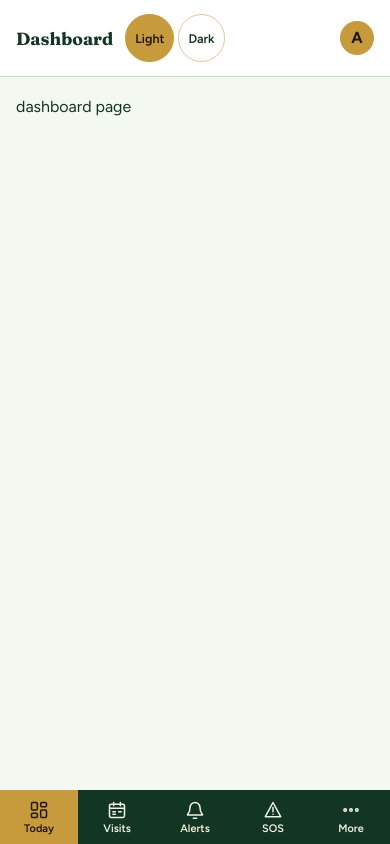
Test: AdminLayout phone navigation › closes the More list when a link is followed
What coordinates should you click on to do the following:
click the button "More"
I would click on:
 (351, 817)
Its box is [312,790,389,843].
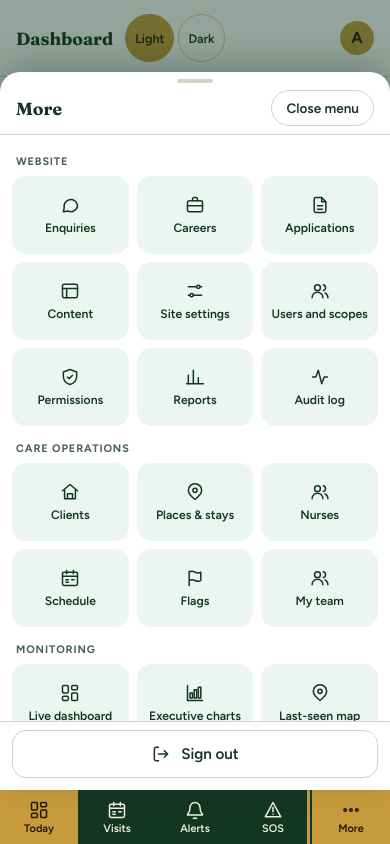
What coordinates should you click on to do the following:
click the link "Users and scopes"
I would click on:
 (320, 301)
Its box is [261,262,378,340].
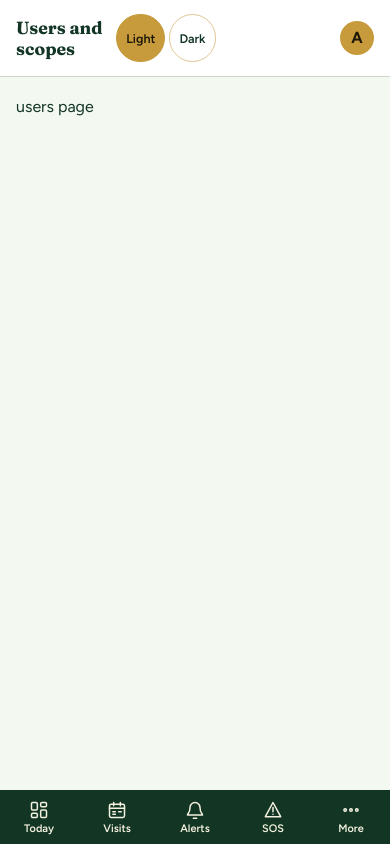
Result: the text "users page" is shown at [16,97,94,116]
Result: the dialog with id "admin-more" is gone
